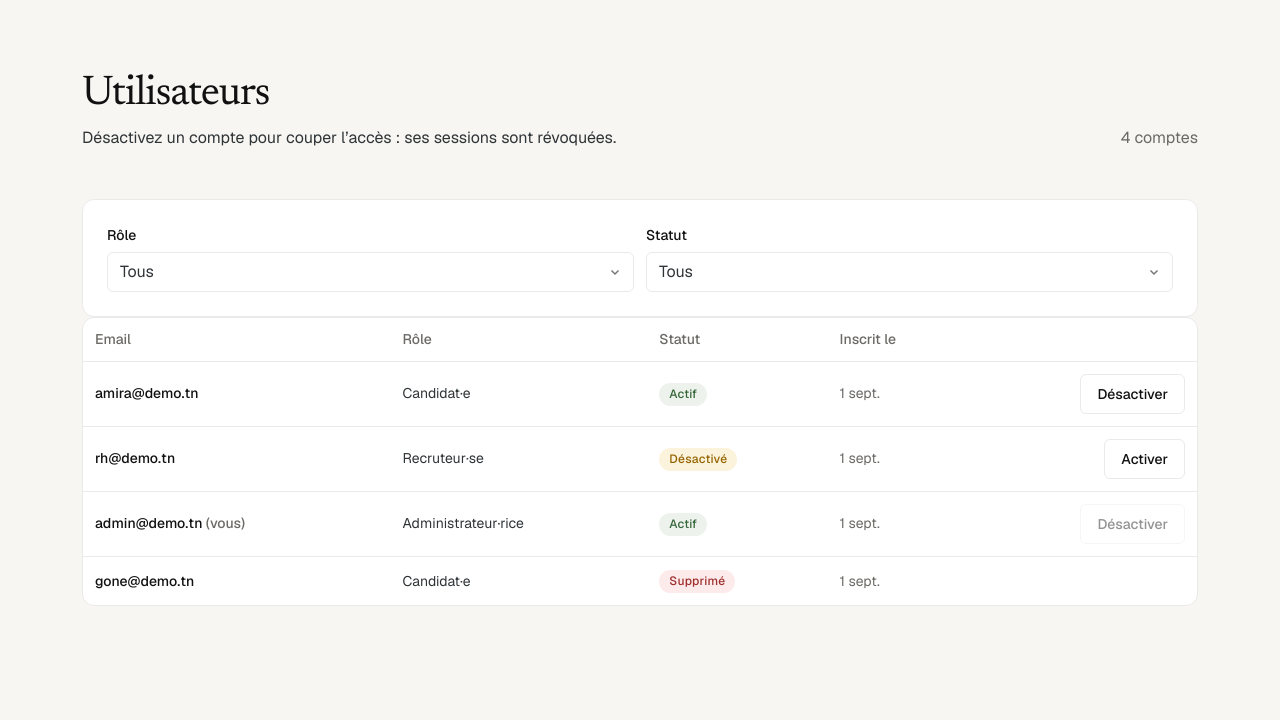
Test: admin users › disables an active account in one click and re-enables a disabled one
Click the button with aria-label "Désactiver le compte de amira@demo.tn".
click(1133, 394)  # box [1080,374,1185,414]
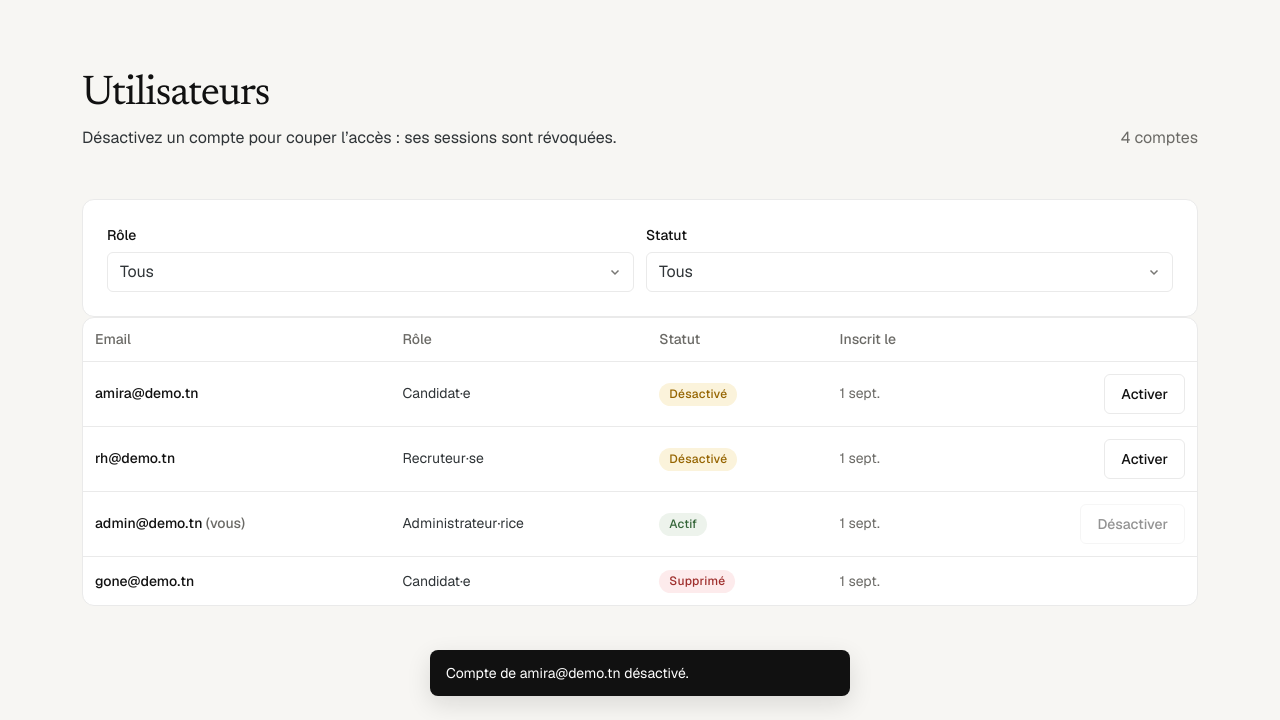
Expected: the 1st text "Désactivé" is shown, [659,383,737,406]
Click the button with aria-label "Activer le compte de rh@demo.tn".
click(1145, 459)  # box [1104,439,1185,479]
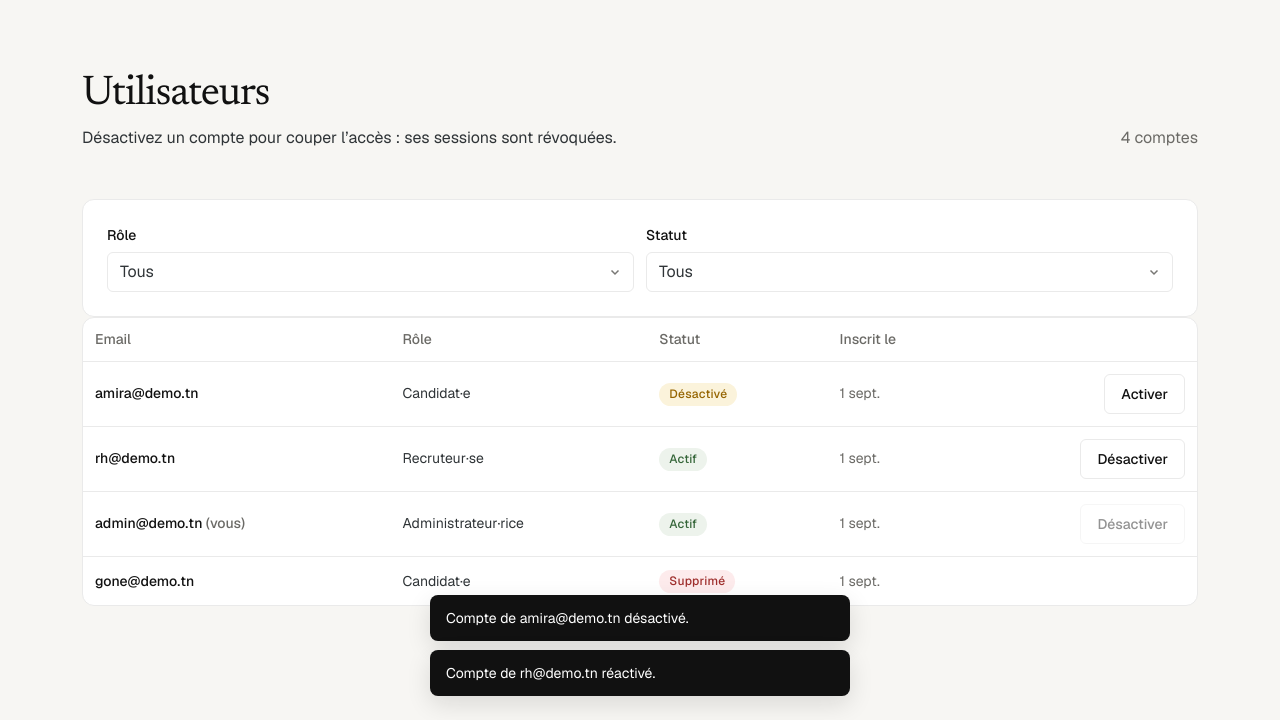
Expected: the text "Compte de rh@demo.tn réactivé." is shown, [430,650,850,696]
